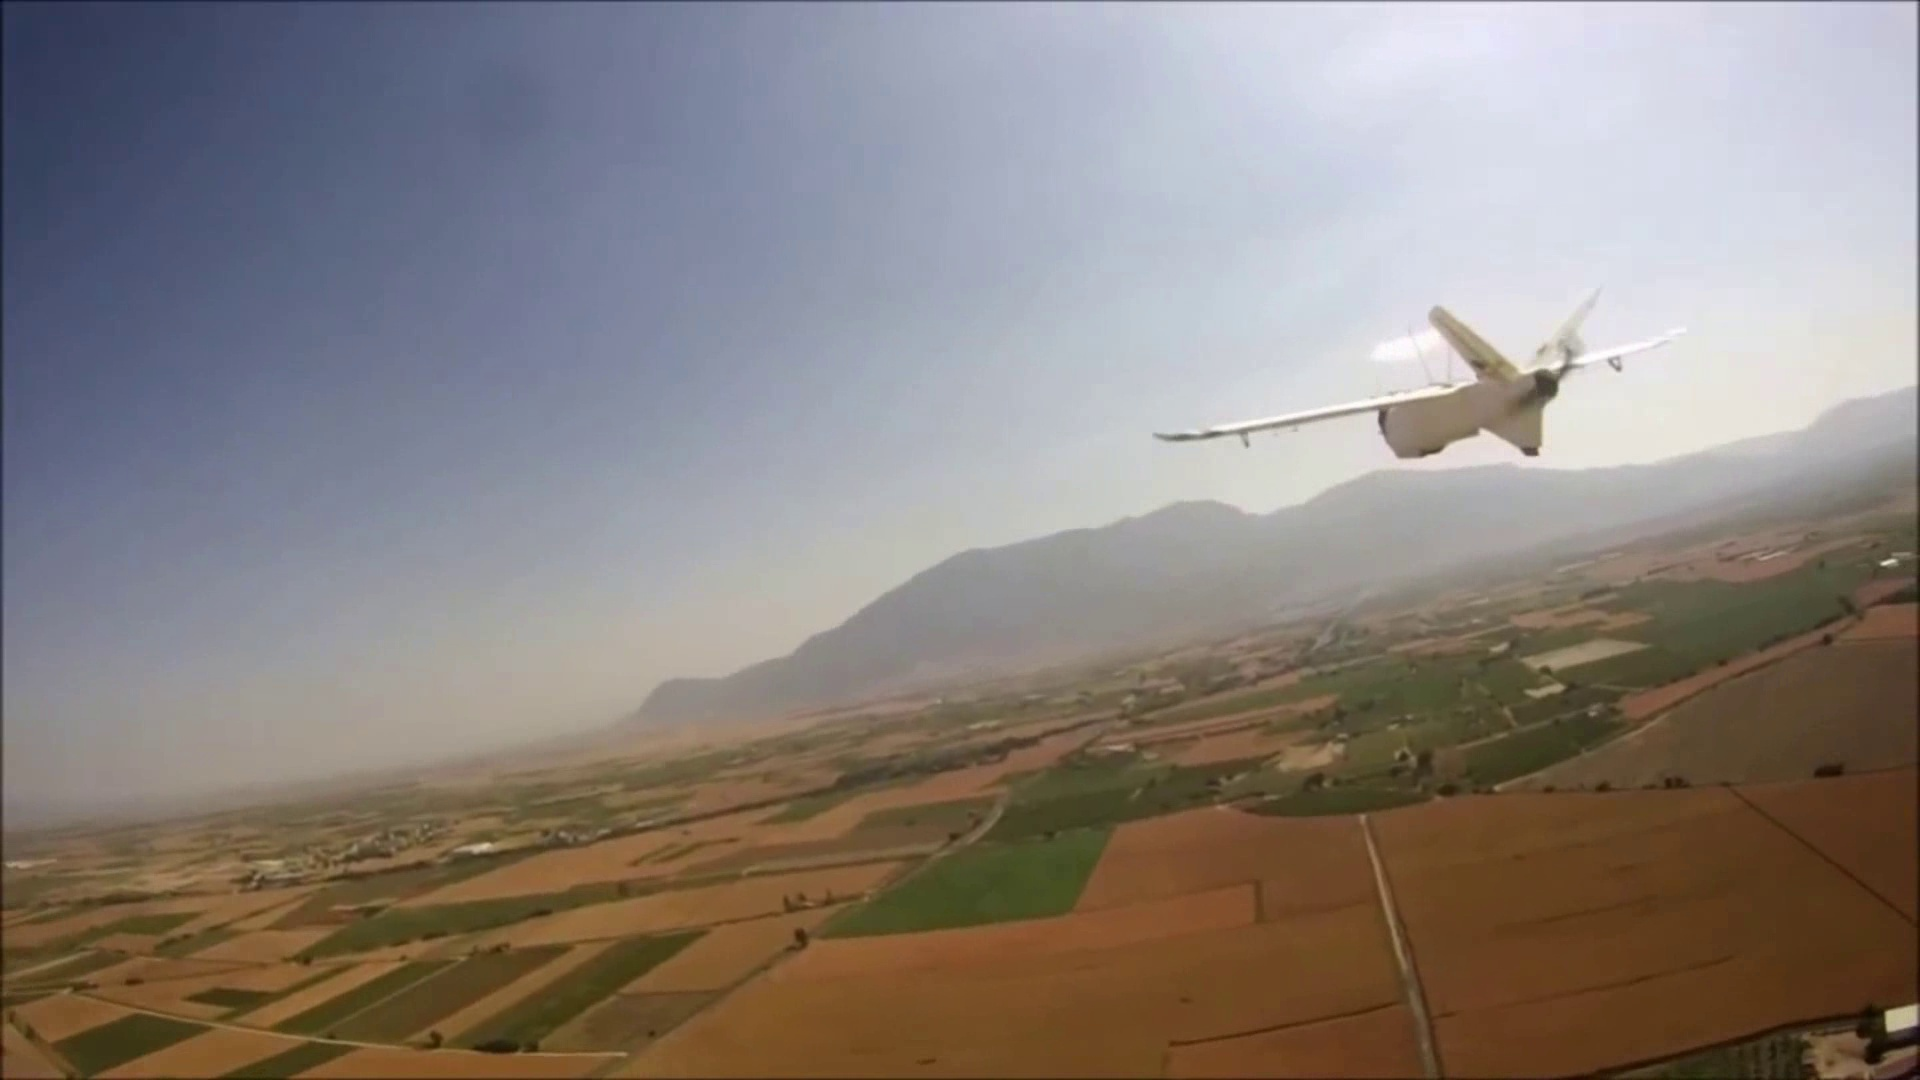airplane: (1155, 289, 1691, 469)
